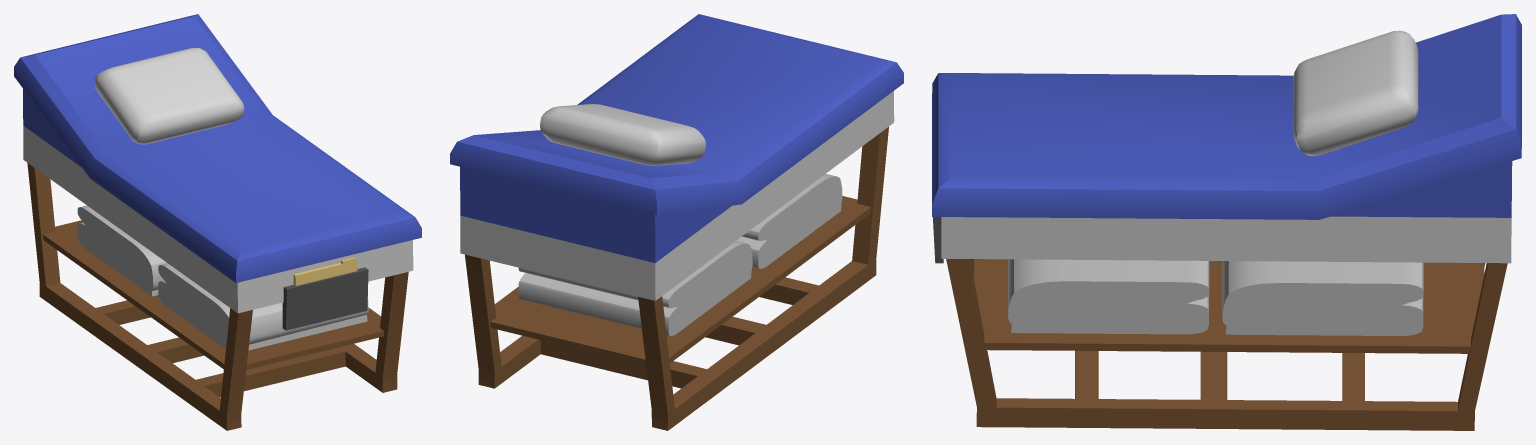
Rendered from medicalTable.fbx.
3 renders of one model, left to right at view 1: azimuth 30°, elevation 25°; view 2: azimuth 150°, elevation 25°; view 3: azimuth 270°, elevation 25°, orthographic. The views are drawn at different scales.
Visible parts, largest first — view 1: Medical Table; view 2: Medical Table; view 3: Medical Table.
Part boxes in pixels (box(x1,y1,x2,y2)): Medical Table: box(14, 14, 421, 430); Medical Table: box(450, 14, 903, 430); Medical Table: box(932, 14, 1521, 430).
Size of the model in its own units: 96.98 by 200 by 119.
